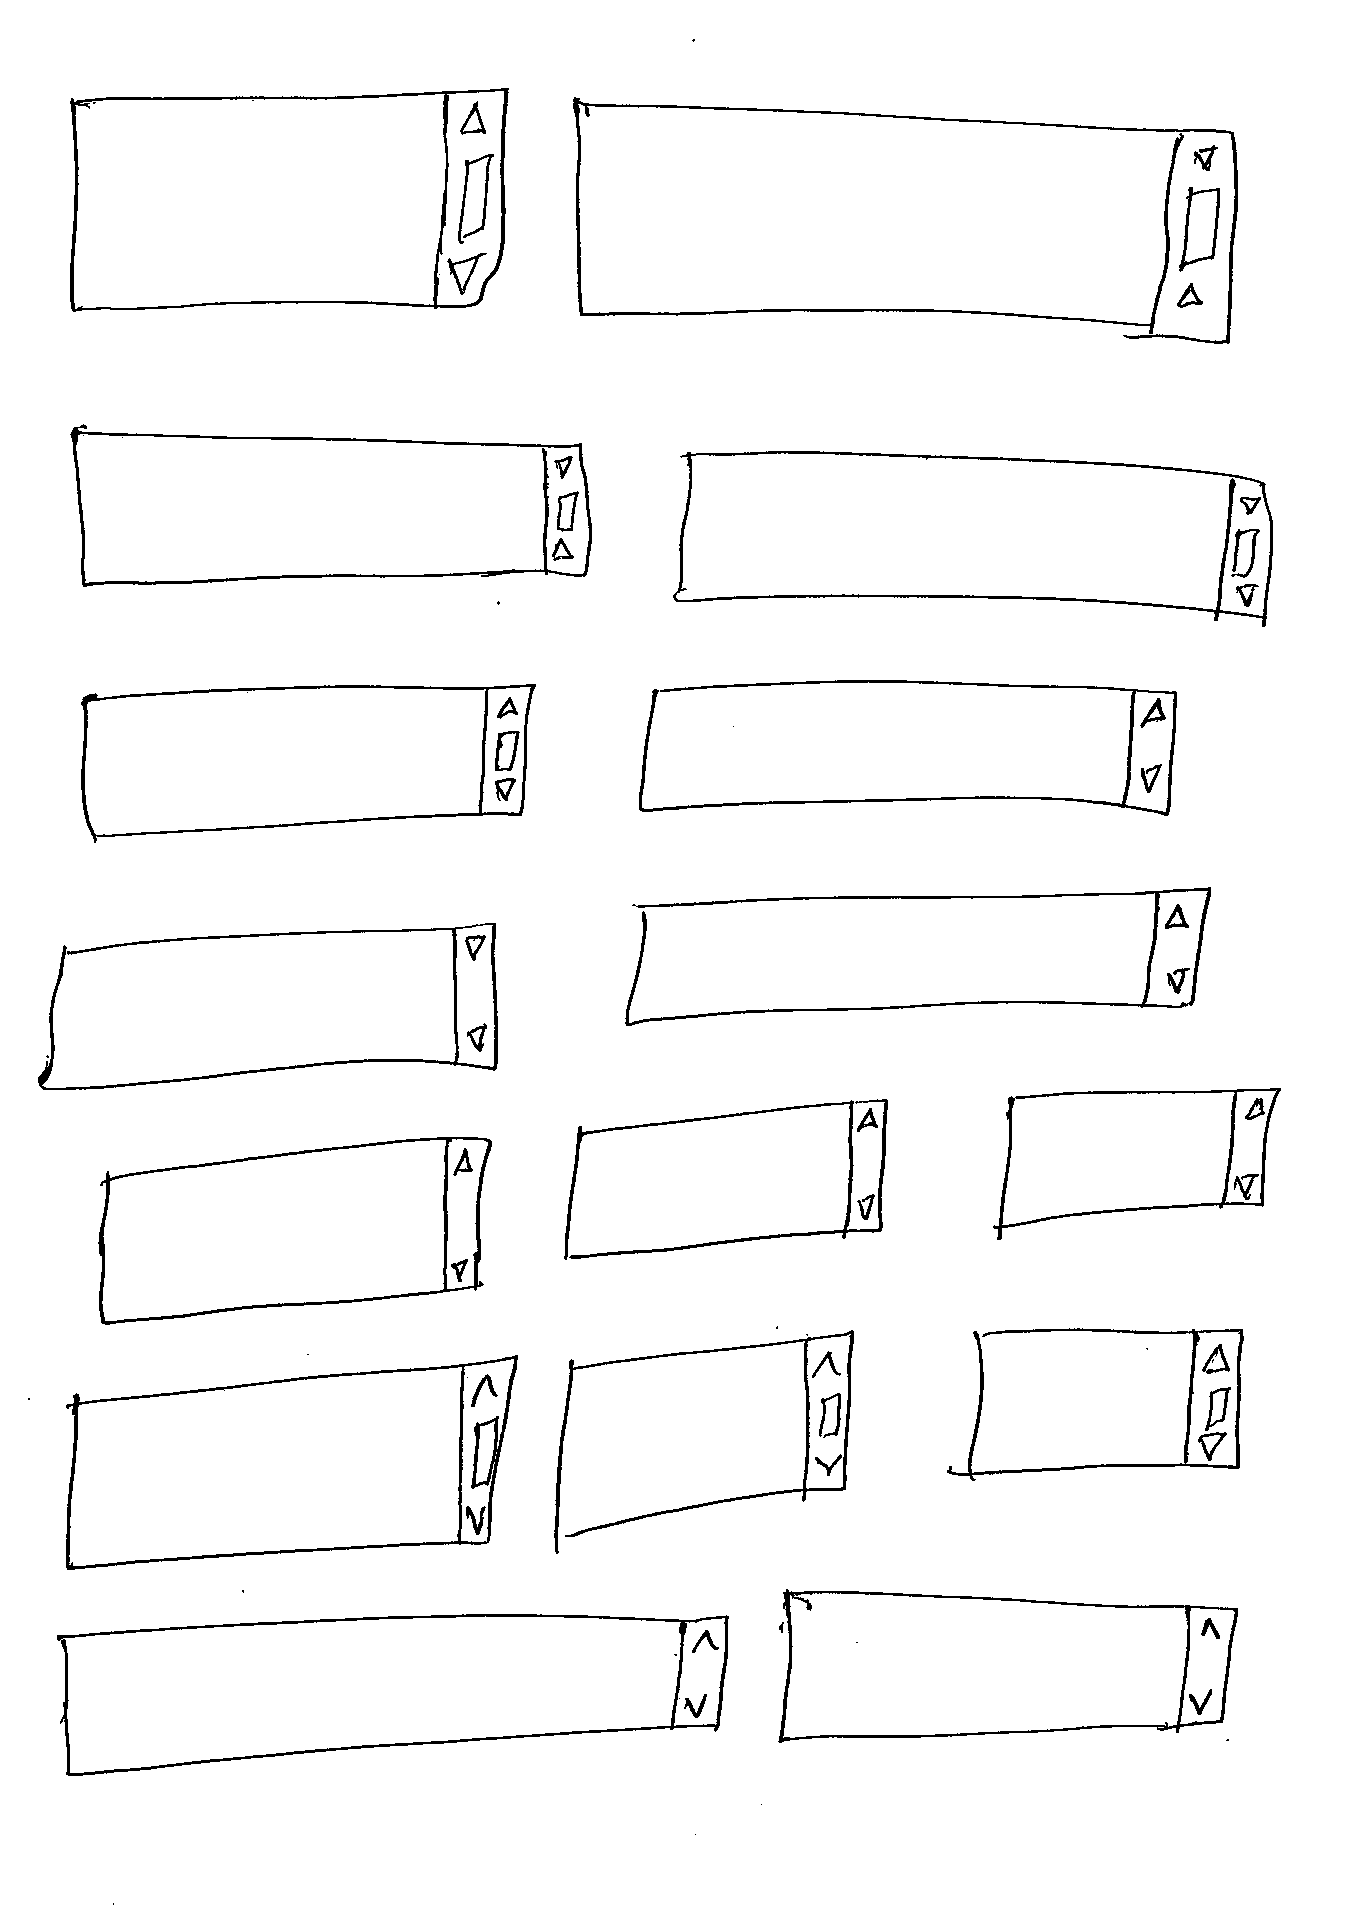Textarea: (571, 99, 1243, 349), (55, 1612, 730, 1777), (673, 452, 1276, 624), (67, 87, 512, 316), (62, 1354, 519, 1576), (622, 883, 1214, 1028), (33, 917, 501, 1094), (71, 429, 596, 587), (634, 676, 1181, 819), (96, 1130, 492, 1326), (78, 679, 537, 841), (776, 1586, 1240, 1746), (551, 1329, 856, 1547), (559, 1094, 888, 1264), (964, 1323, 1248, 1484), (993, 1082, 1282, 1235)
